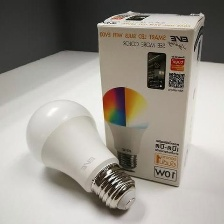carton: (92, 5, 208, 191)
light_bulb: (21, 96, 140, 216)
